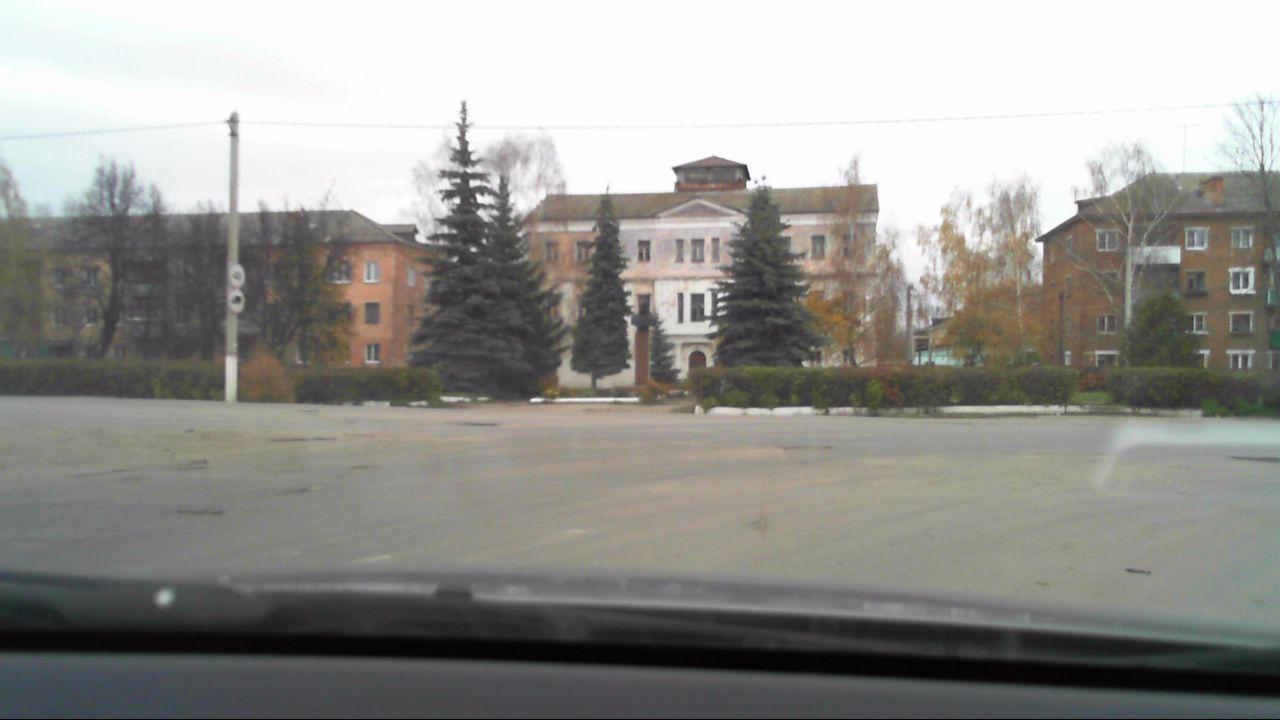3_24: (226, 264, 249, 288)
3_4: (228, 291, 244, 314)
